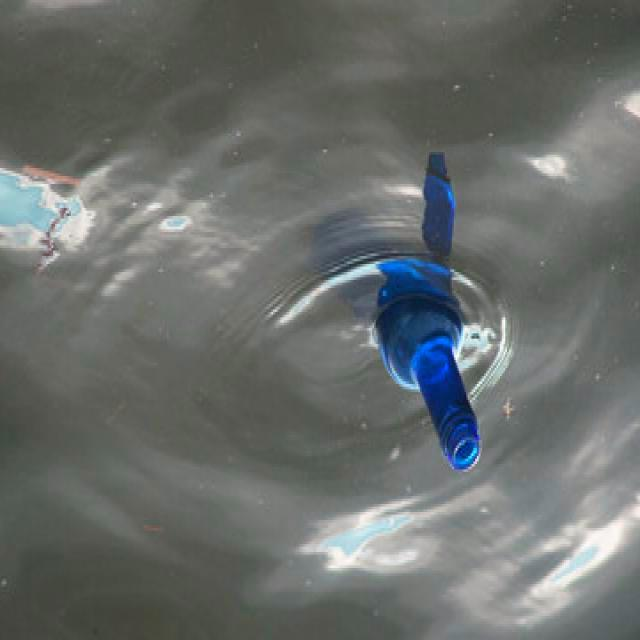Glass: (377, 299, 479, 472)
